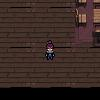Obstacle: (70, 7, 89, 28)
Victim: (44, 39, 56, 60)
